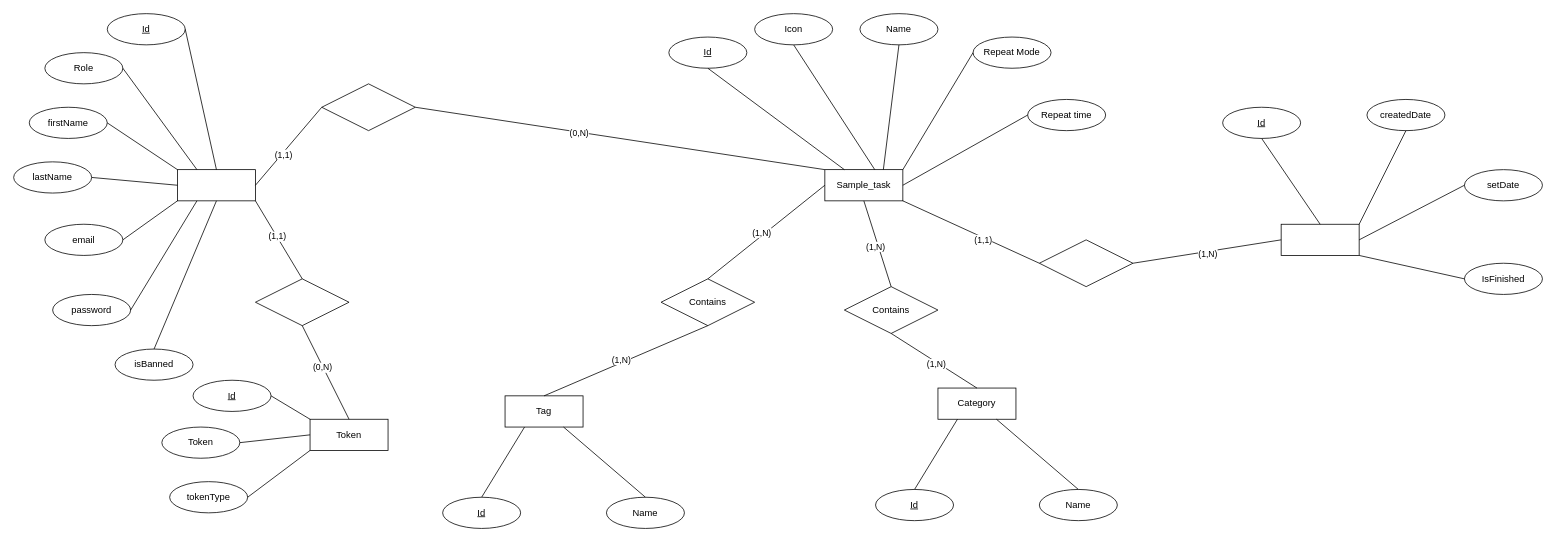
Image size: 1556x542. Some labels were removed from this diagram. Here are the shapes that lost their labels. From the top down, the centre of each, then its label:
At [368,107]: "Plan".
At [216,185]: "User".
At [1319,239]: "Daily_task".
At [1086,263]: "Make".
At [302,302]: "Has".
